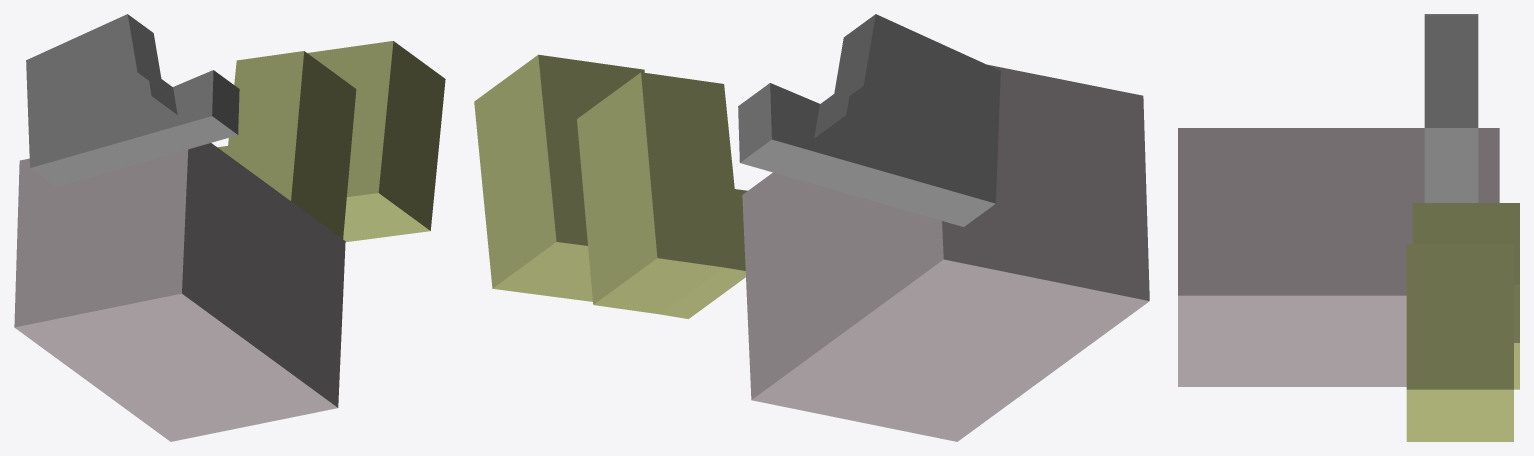
3 renders of one model, left to right at view 1: azimuth 30°, elevation 25°; view 2: azimuth 150°, elevation 25°; view 3: azimuth 270°, elevation 25°, orthographic. The views are drawn at different scales.
Parts seen in each view (by area): view 1: 0_1_2_0_1_3_0_3_1_3; view 2: 0_1_2_0_1_3_0_3_1_3; view 3: 0_1_2_0_1_3_0_3_1_3.
Boxes of the visible parts, left/top/right/bottom form: 0_1_2_0_1_3_0_3_1_3: left=14, top=14, right=445, bottom=441; 0_1_2_0_1_3_0_3_1_3: left=474, top=14, right=1149, bottom=441; 0_1_2_0_1_3_0_3_1_3: left=1178, top=14, right=1519, bottom=441.
Size of the model in its own units: 25.65 by 19.25 by 19.12.
